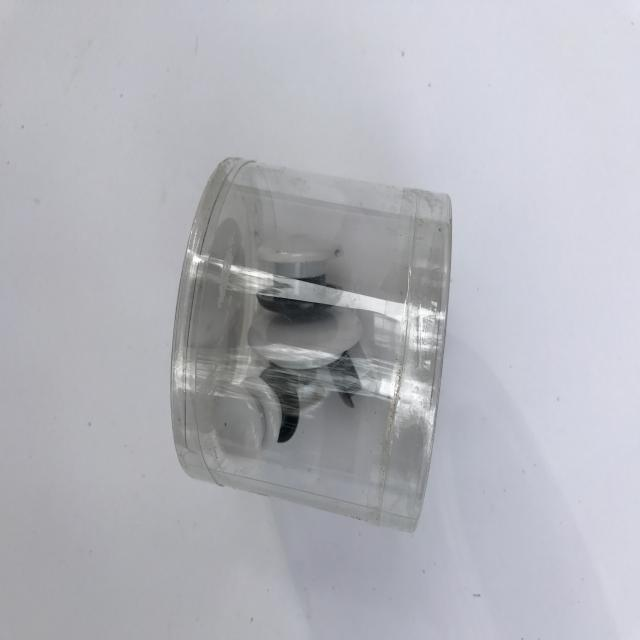plastic: (164, 148, 446, 536)
